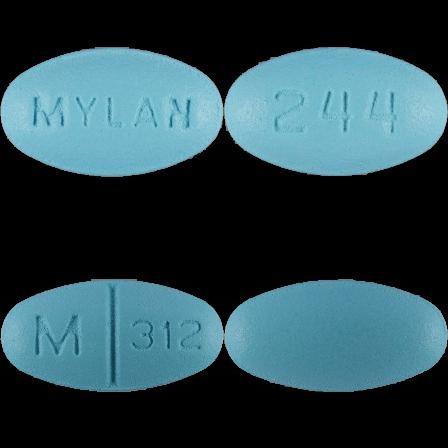0093-3043: (0, 0, 224, 224)
